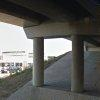Bridge: (14, 8, 91, 80)
